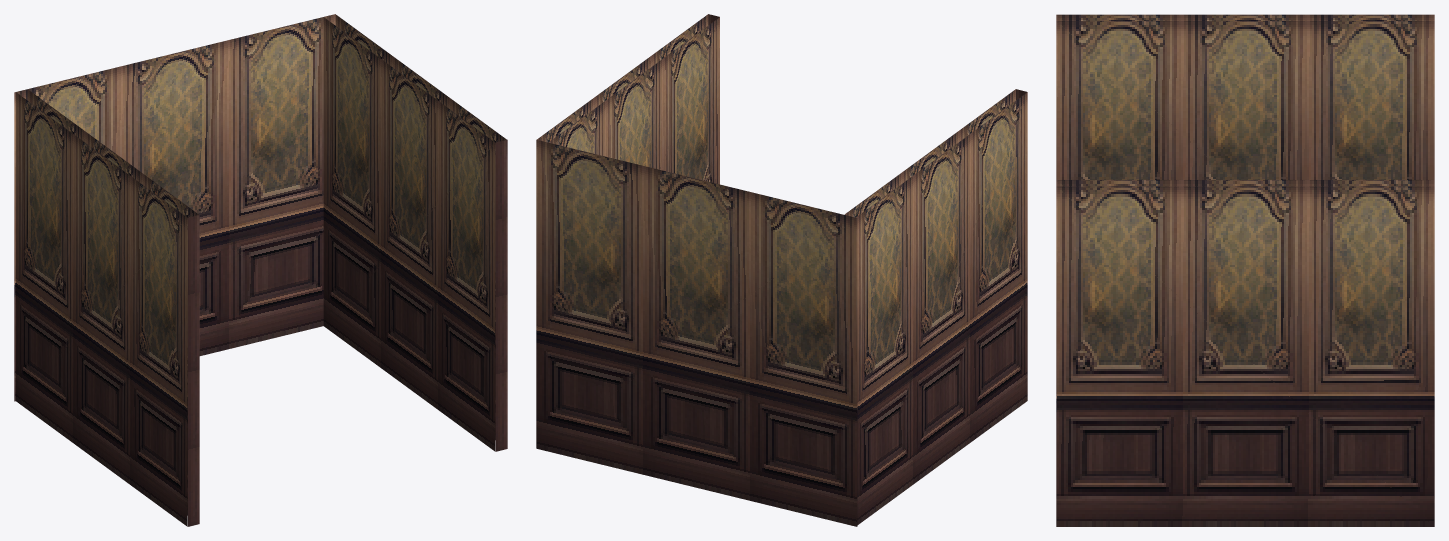
Rendered from floor_change_wall.glb.
The picture shows the model from 3 angles, left to right: view 1: azimuth 30°, elevation 25°; view 2: azimuth 150°, elevation 25°; view 3: azimuth 270°, elevation 25°; orthographic projection. The views are drawn at different scales.
Parts seen in each view (by area): view 1: Piano.001, Piano, Piano.002, Plane, Plane.002, Piano.004, Piano.003; view 2: Piano.001, Piano.002, Piano, Piano.003, Piano.004; view 3: Piano.003, Piano.004, Piano, Piano.002.
Boxes of the visible parts, box(x1,y1,x2,y2) form: Piano.001: box(14, 14, 335, 401); Piano: box(323, 17, 495, 451); Piano.002: box(16, 92, 187, 526); Plane: box(495, 140, 507, 451); Plane.002: box(188, 215, 199, 526); Piano.004: box(27, 89, 198, 515); Piano.003: box(335, 14, 506, 439); Piano.001: box(536, 140, 857, 526); Piano.002: box(856, 92, 1027, 525); Piano: box(549, 17, 719, 184); Piano.003: box(537, 14, 708, 142); Piano.004: box(844, 89, 1015, 217); Piano.003: box(1056, 186, 1434, 526); Piano.004: box(1056, 21, 1434, 179); Piano: box(1056, 180, 1434, 186); Piano.002: box(1056, 14, 1434, 20).
Bounding box in the file's own units: 5.44 × 5 × 5.04.
7 materials, 7 textured.
